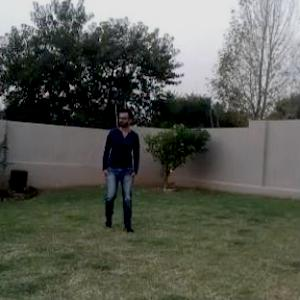follow: (98, 101, 145, 237)
